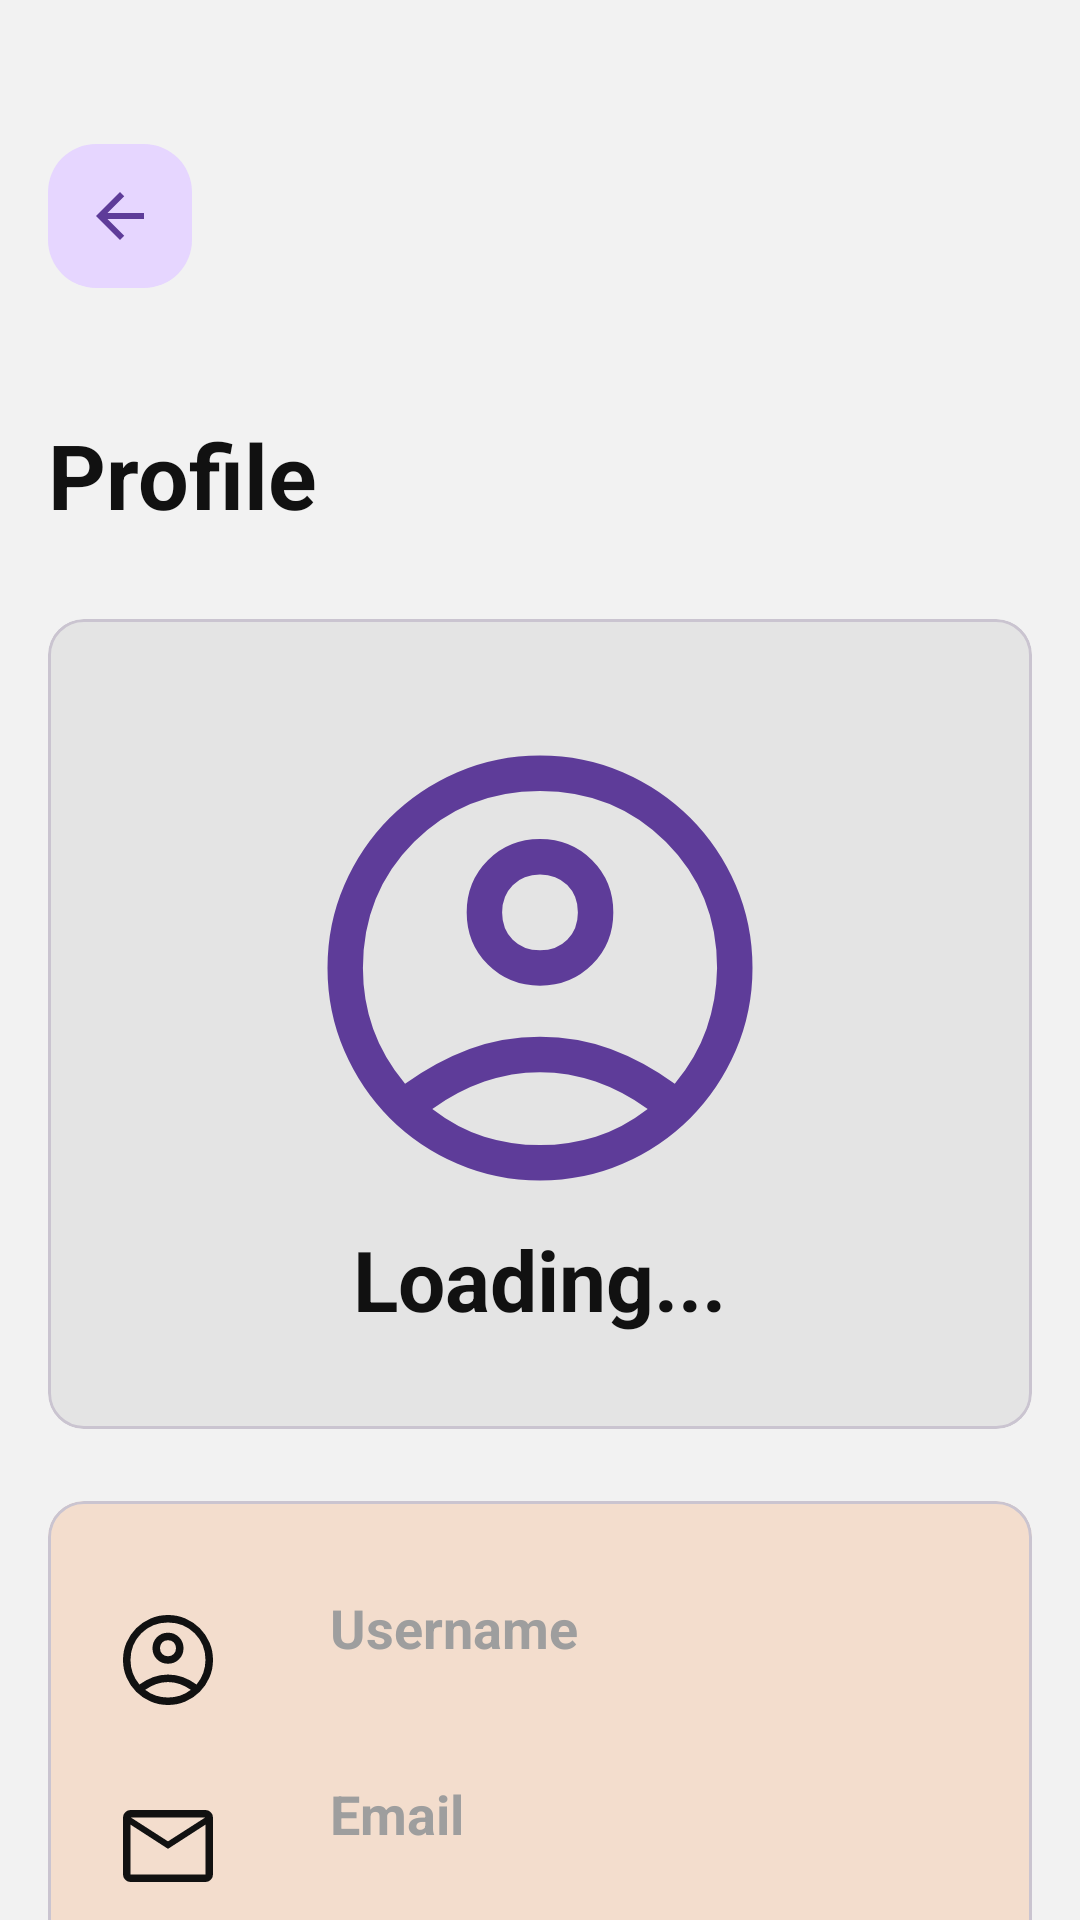

Screen size 1080px x 1920px. Icon name, then its center in pixels as (x,y):
Back: (120,216)
